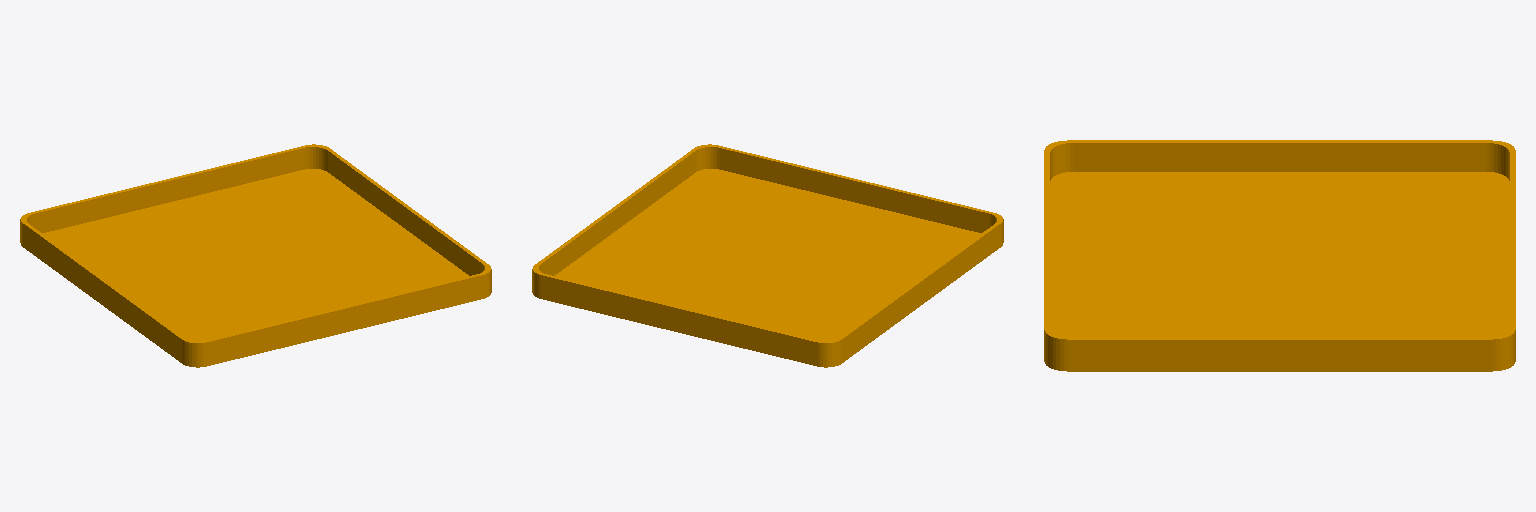
The robot description file, URDF, robot "arena":
<?xml version="1.0" encoding="utf-8"?>
<!-- =================================================================================== -->
<!-- |    This document was autogenerated by xacro from arena.urdf.xacro               | -->
<!-- |    EDITING THIS FILE BY HAND IS NOT RECOMMENDED                                 | -->
<!-- =================================================================================== -->
<robot name="arena">
  <link name="arena_link">
    <collision>
      <origin rpy="0 0 -4.71238898038" xyz="0 0 0"/>
      <!-- <origin xyz="0 0 0" rpy="0 0 0" /> -->
      <geometry>
        <mesh filename="package://hero_gazebo/worlds/models/arena_1/arena.dae" scale="1 1 1"/>
      </geometry>
    </collision>
    <visual>
      <origin rpy="0 0 -4.71238898038" xyz="0 0 0"/>
      <!-- <origin xyz="0 0 0" rpy="0 0 0" /> -->
      <geometry>
        <mesh filename="package://hero_gazebo/worlds/models/arena_1/arena.dae" scale="1 1 1"/>
      </geometry>
    </visual>
    <inertial>
      <origin rpy="0 0 0" xyz="0 0 0"/>
      <mass value="100"/>
      <inertia ixx="134.083333333" ixy="0" ixz="0" iyy="134.083333333" iyz="0" izz="134.083333333"/>
    </inertial>
  </link>
  <gazebo reference="arena_link">
    <static>true</static>
    <gravity>false</gravity>
    <selfCollide>false</selfCollide>
  </gazebo>
</robot>

--- Facts derived from the render (not from the file) ---
Views: 3 orthographic renders of the robot side by side, from view 1: azimuth 30°, elevation 25°; view 2: azimuth 150°, elevation 25°; view 3: azimuth 270°, elevation 25°.
Robot: arena — 1 links, 0 joints (none); root link arena_link; default pose: all joints at 0.
Links seen in each view (by area): view 1: arena_link; view 2: arena_link; view 3: arena_link.
Link boxes in pixels (x1,y1,x2,y2): arena_link: (20, 144, 491, 367); arena_link: (532, 144, 1003, 367); arena_link: (1044, 140, 1515, 371).
Size in the robot's own frame: 4 by 4 by 0.3 metres.
1 mesh visuals loaded from 1 distinct referenced files (1 Collada DAE).
